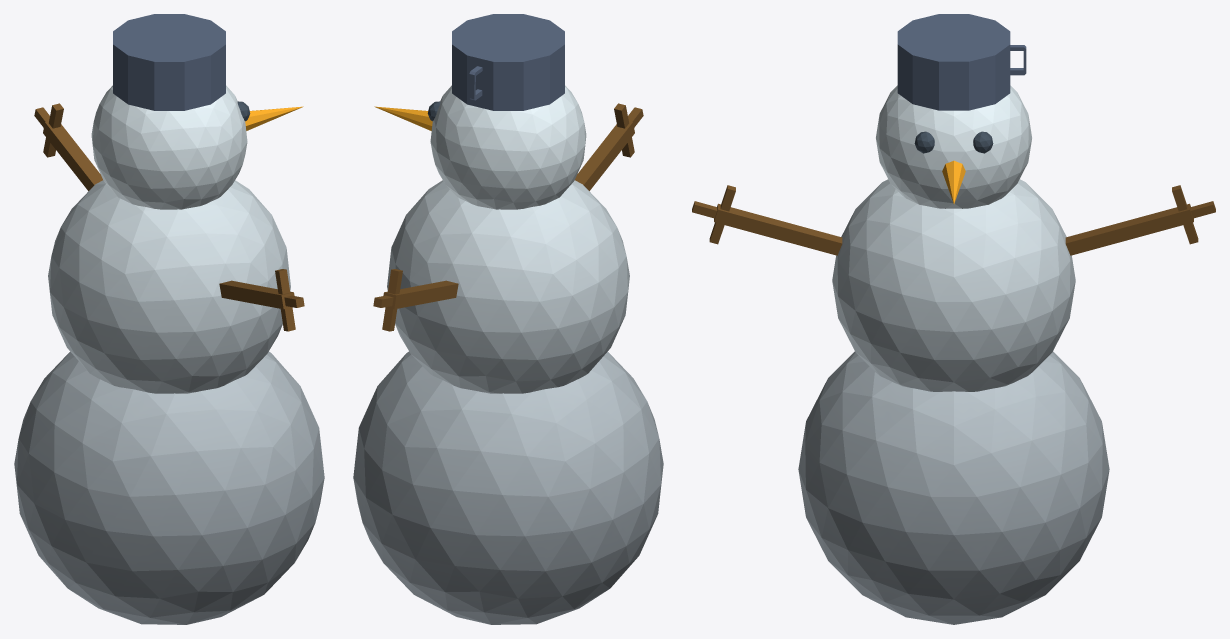
Rendered from SM_SnowMan.fbx.
The picture shows the model from 3 angles, left to right: view 1: azimuth 30°, elevation 25°; view 2: azimuth 150°, elevation 25°; view 3: azimuth 270°, elevation 25°; orthographic projection.
Visible parts, largest first — view 1: SM_SnowMan; view 2: SM_SnowMan; view 3: SM_SnowMan.
Boxes of the visible parts, x1,y1,x2,y2 form: SM_SnowMan: (14, 14, 324, 624); SM_SnowMan: (353, 14, 663, 624); SM_SnowMan: (692, 14, 1215, 624).
Bounding box in the file's own units: 168 × 341 × 283.
